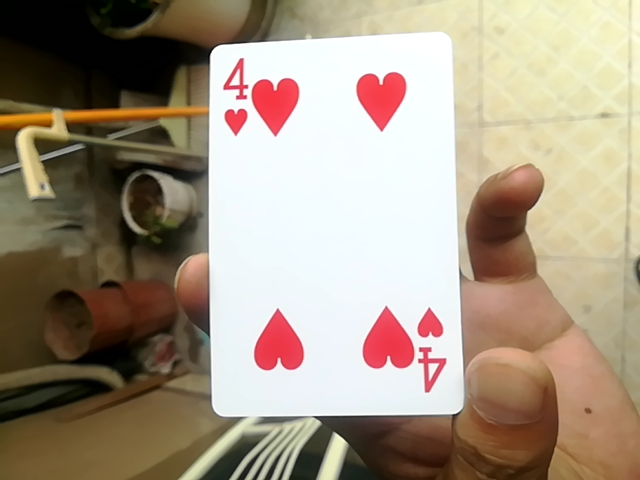hx 4: (205, 34, 470, 410)
